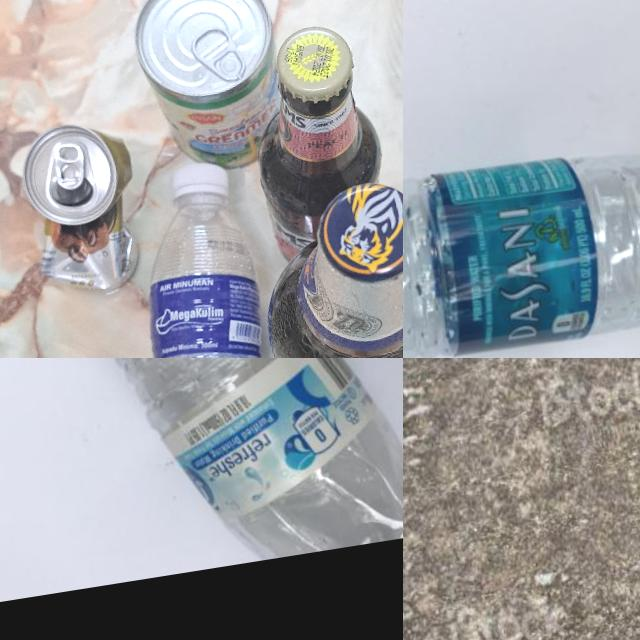aba de lata: (189, 21, 248, 89), (49, 142, 92, 196)
garrafa de vidro: (240, 17, 396, 264), (246, 173, 403, 358)
garrafa plástica: (0, 358, 403, 591), (403, 120, 640, 358), (102, 156, 295, 358)
lata: (128, 0, 292, 181), (16, 118, 152, 298)
tampa plástica: (172, 158, 232, 216)
